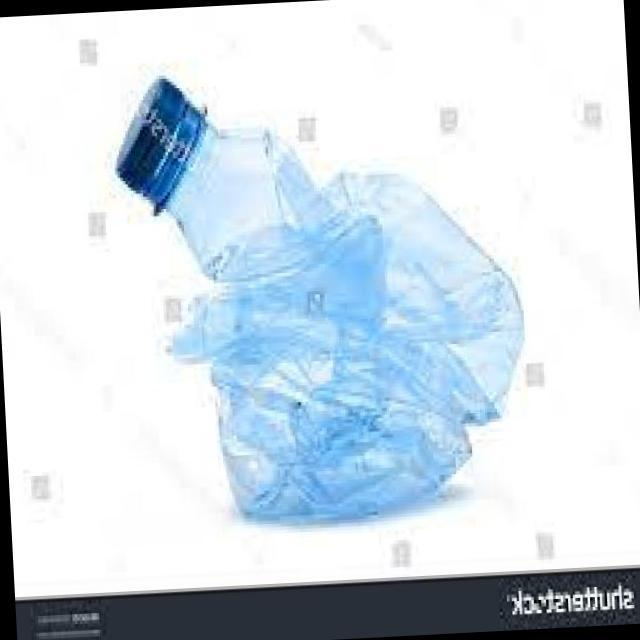defected: (102, 42, 533, 544)
